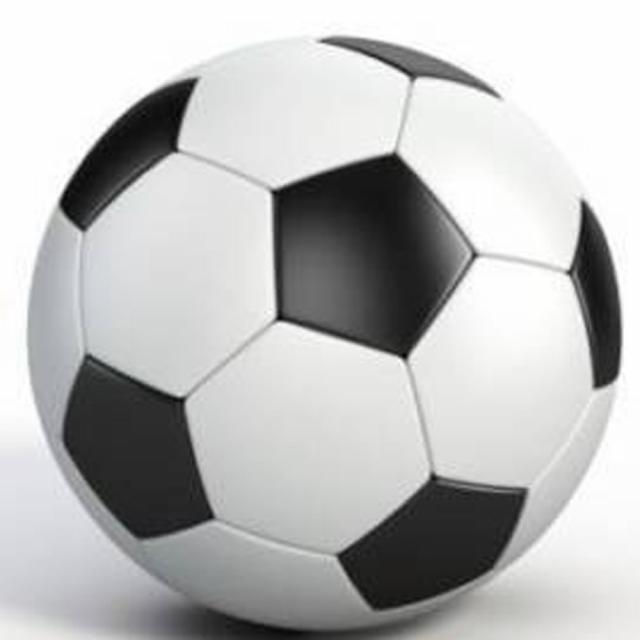Ball: (22, 22, 635, 638)
